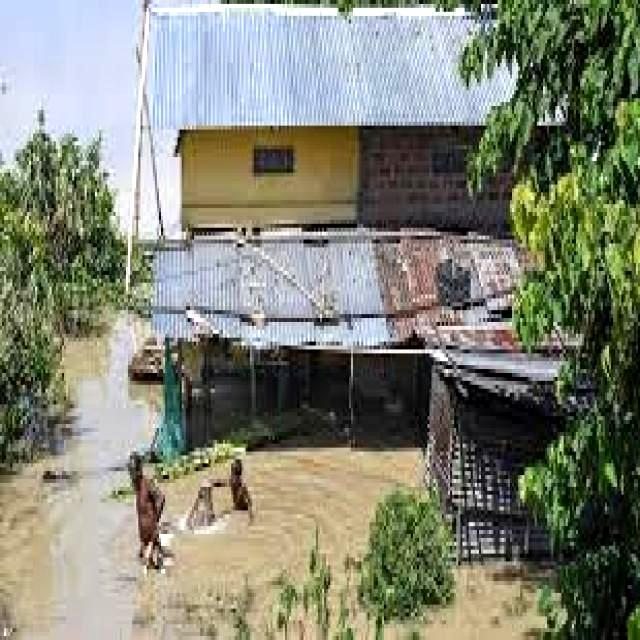civilian: (119, 455, 171, 583), (218, 446, 258, 528)
